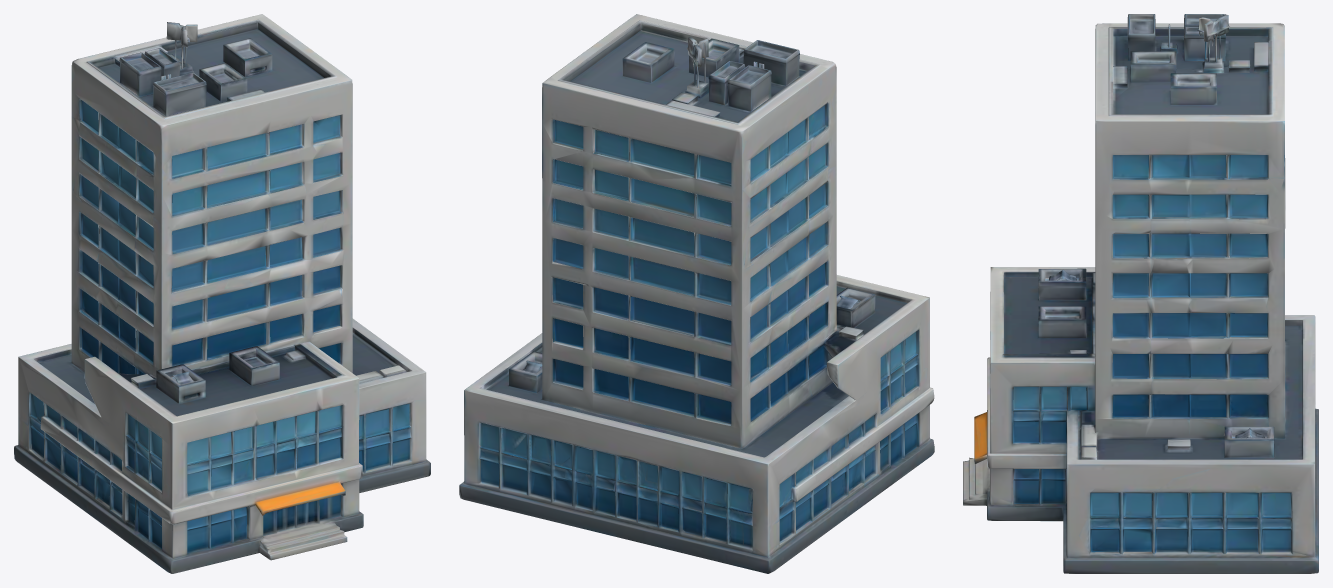
The model's file is props-building-1.glb.
3 views of the same model, side by side, from view 1: azimuth 30°, elevation 25°; view 2: azimuth 150°, elevation 25°; view 3: azimuth 270°, elevation 25° (orthographic). The views are drawn at different scales.
Bounding box in the file's own units: 0.6028 × 0.8577 × 0.5954.
1 material, 1 textured.
